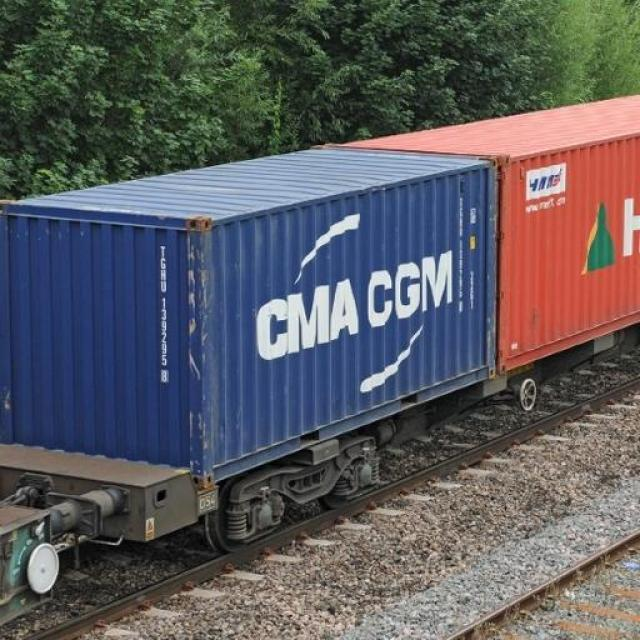container_number: (152, 245, 174, 392)
